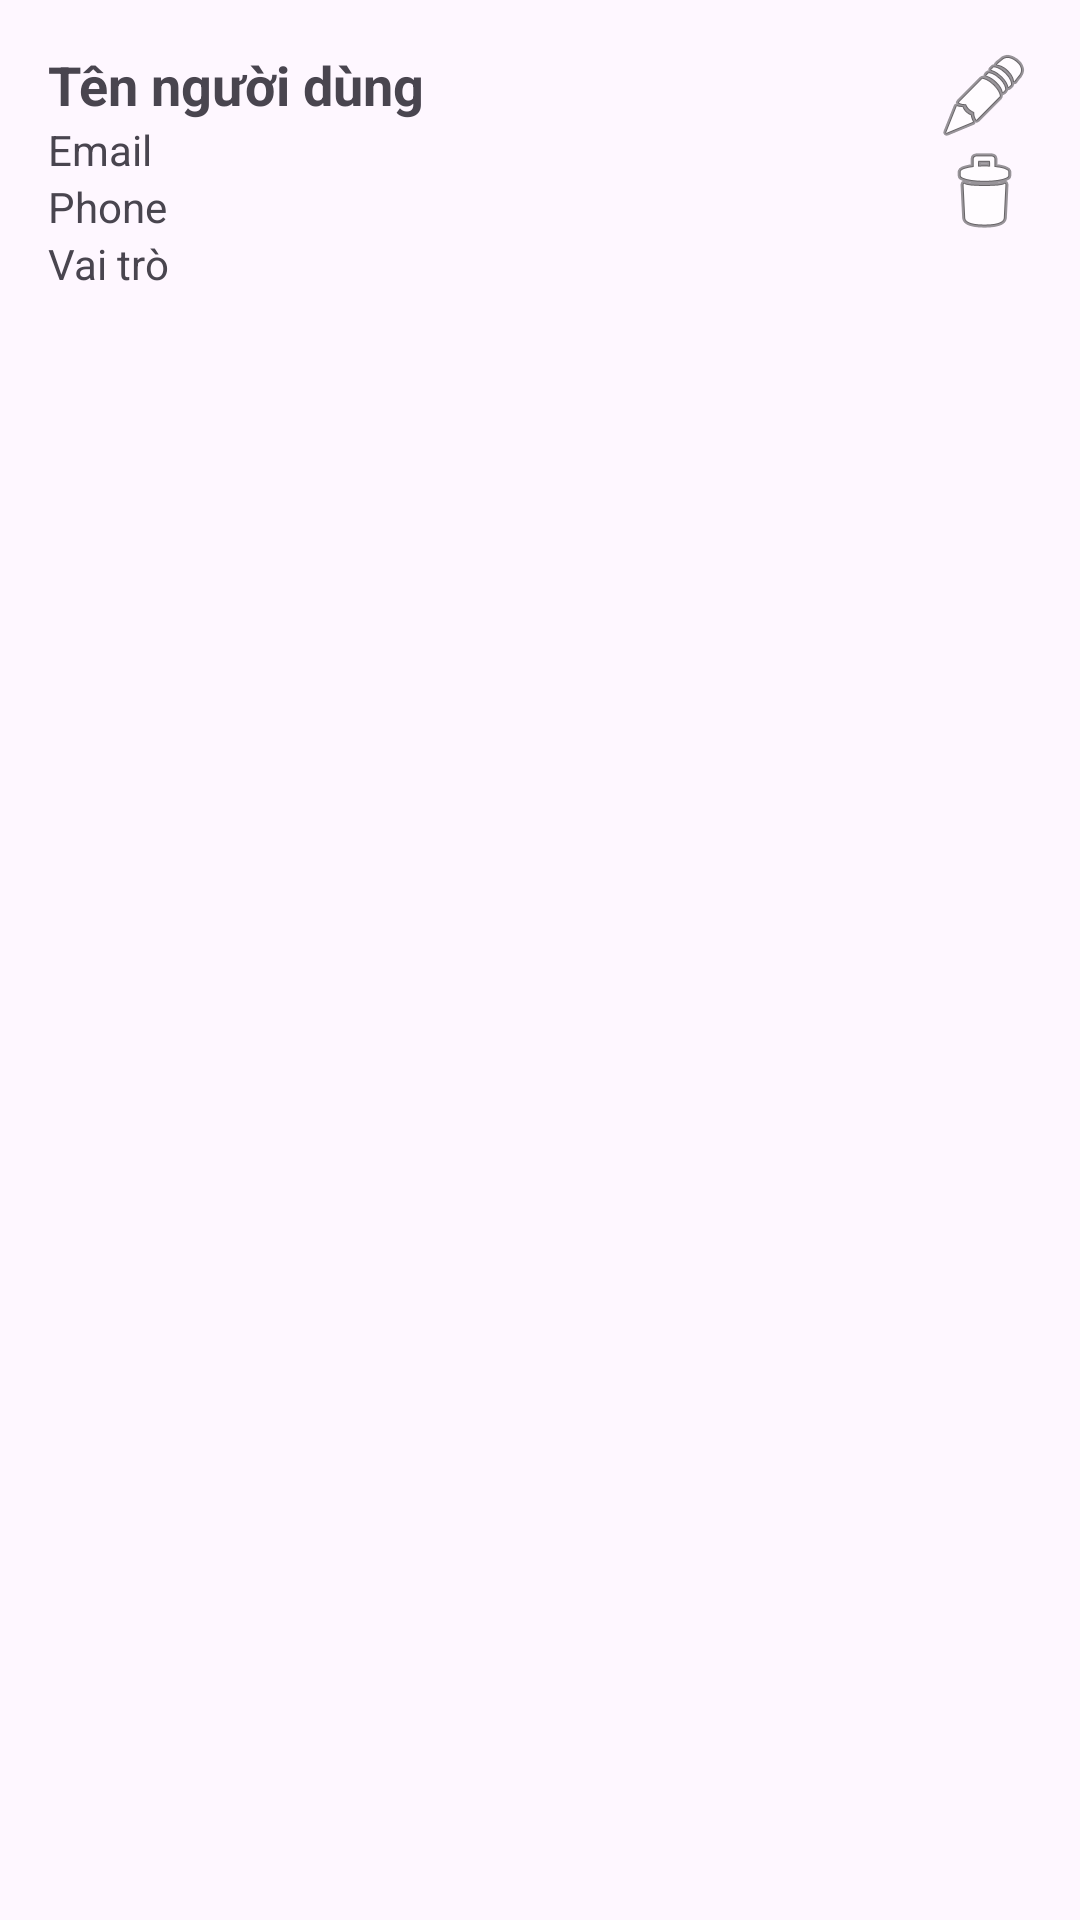

Where icons sit on this 1080x1920 app screen, as rect(x1, y1, x2, y2):
delete: rect(957, 153, 1012, 228)
edit: rect(943, 55, 1024, 136)
